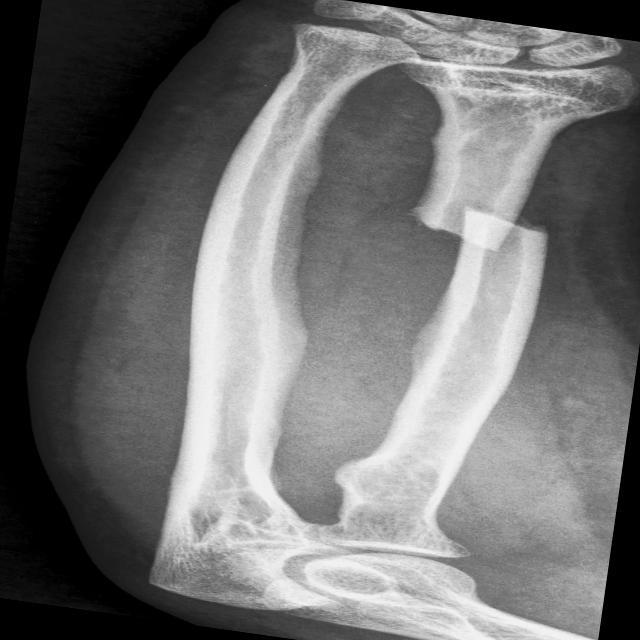Fracture Dislocation: (413, 188, 549, 280)
